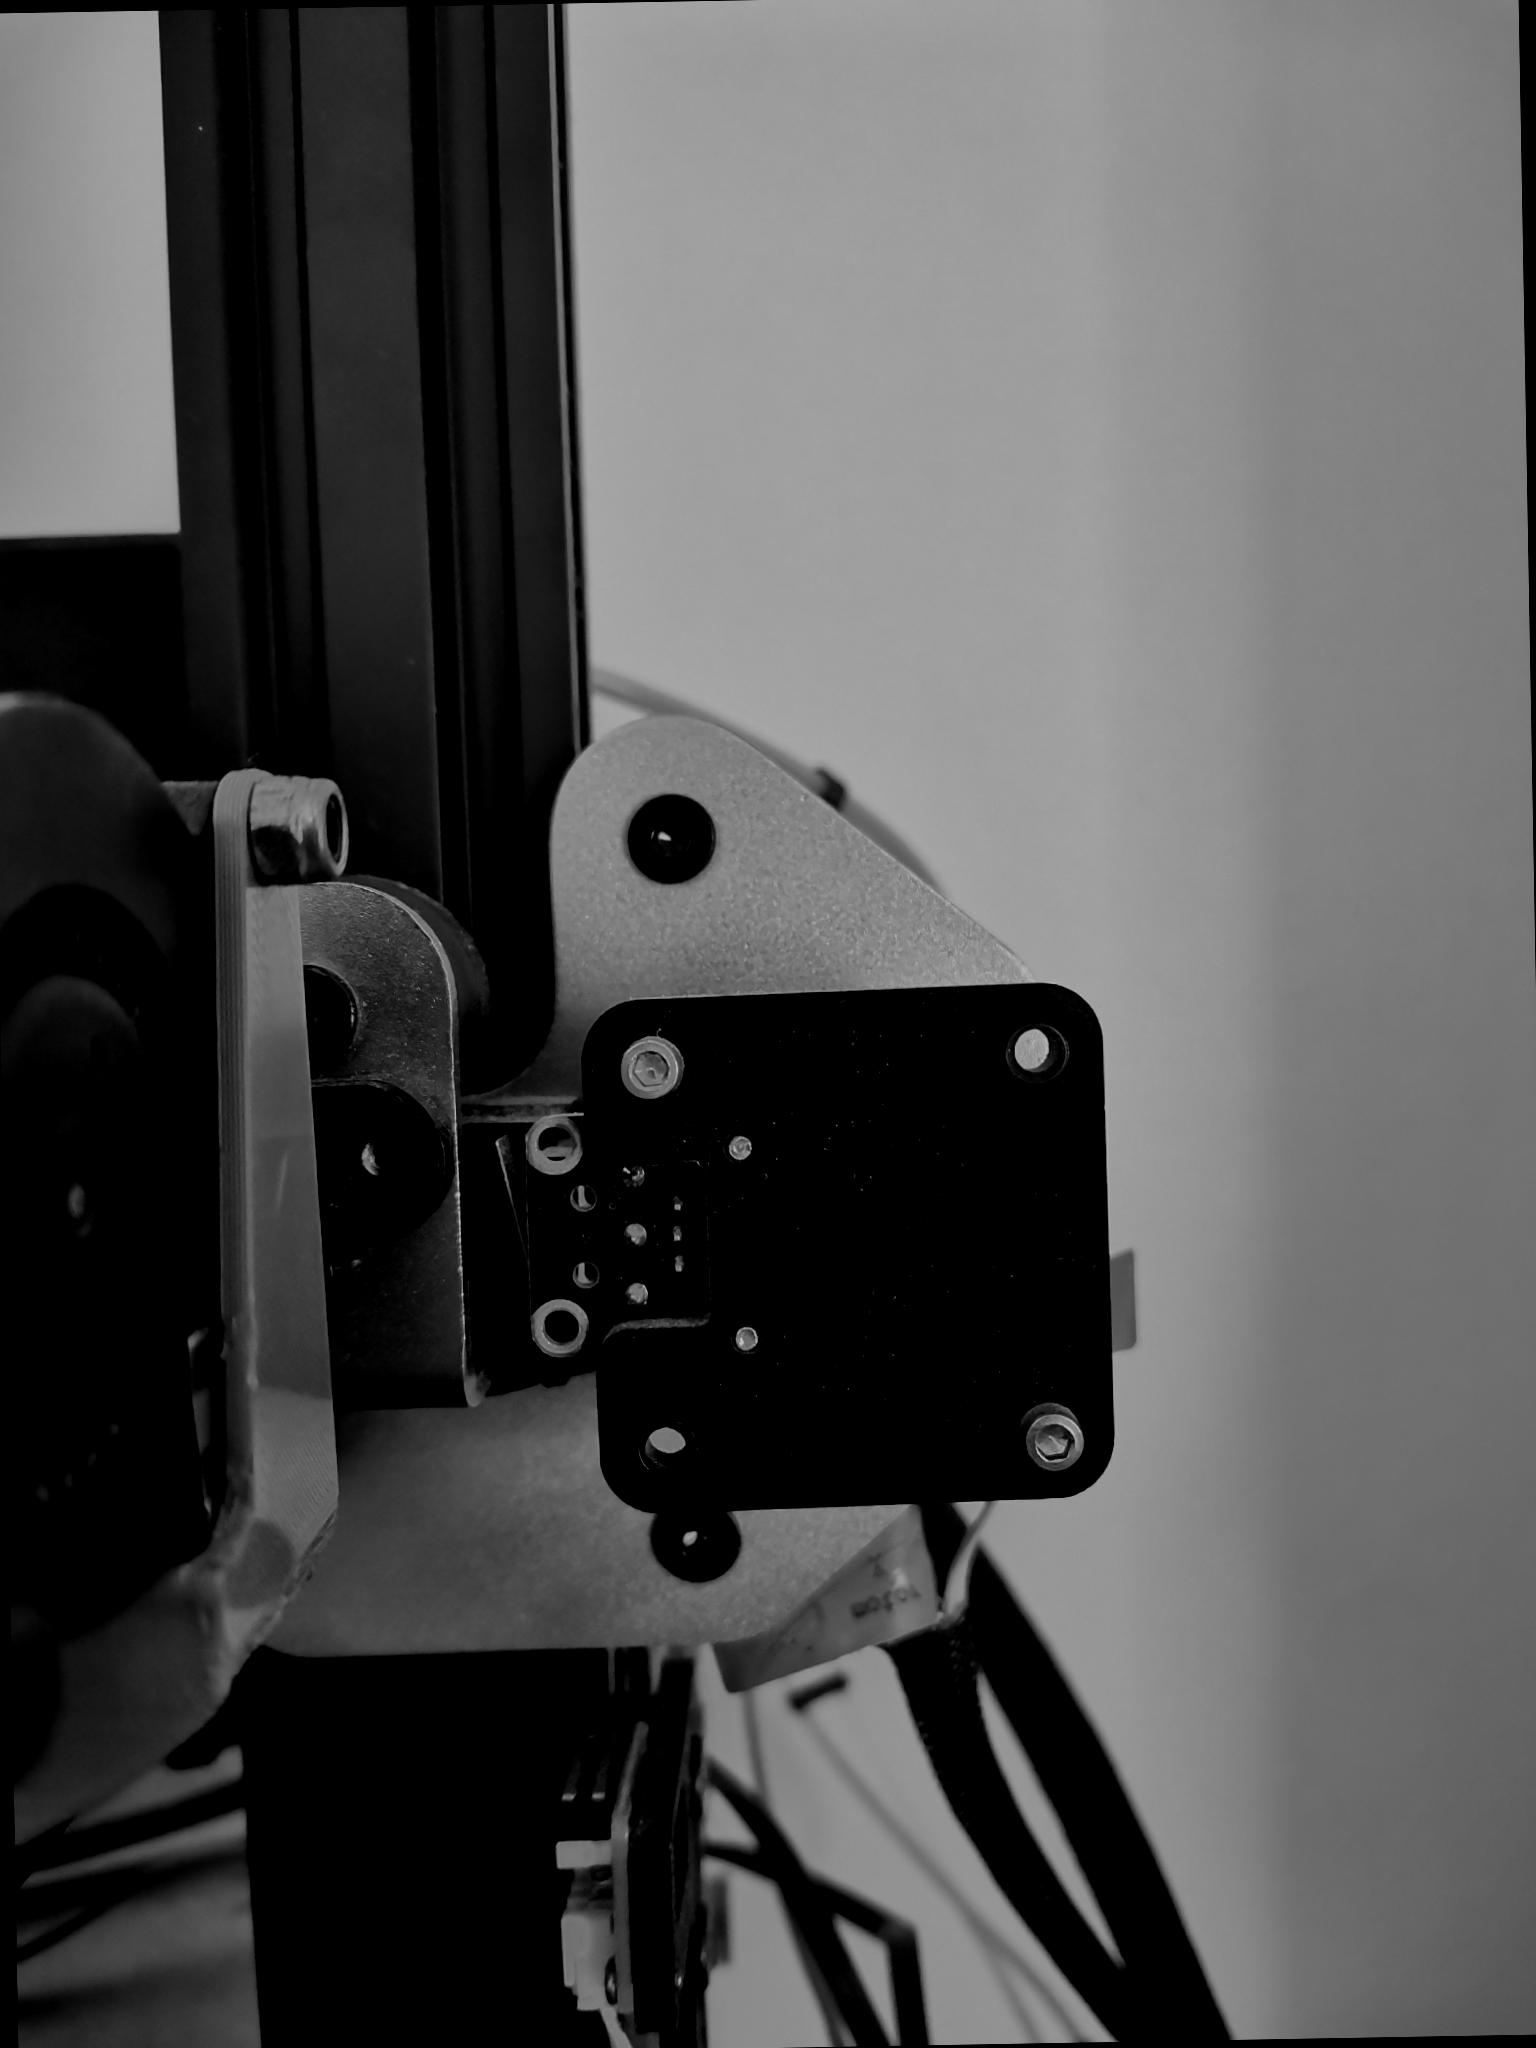screw: (1020, 1405, 1094, 1479), (615, 1034, 689, 1105)
